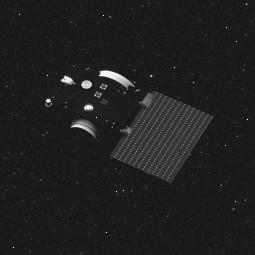proba_3_csc: (41, 53, 210, 194)
